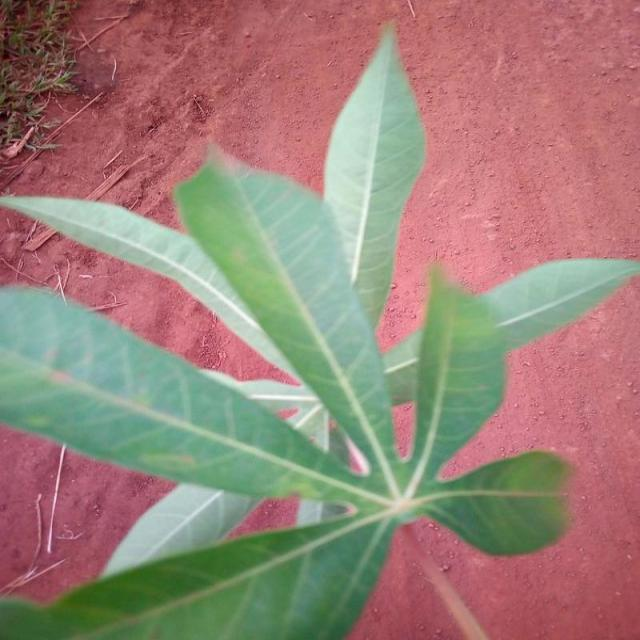cassava leaf: (0, 21, 638, 638), (170, 140, 400, 476)
